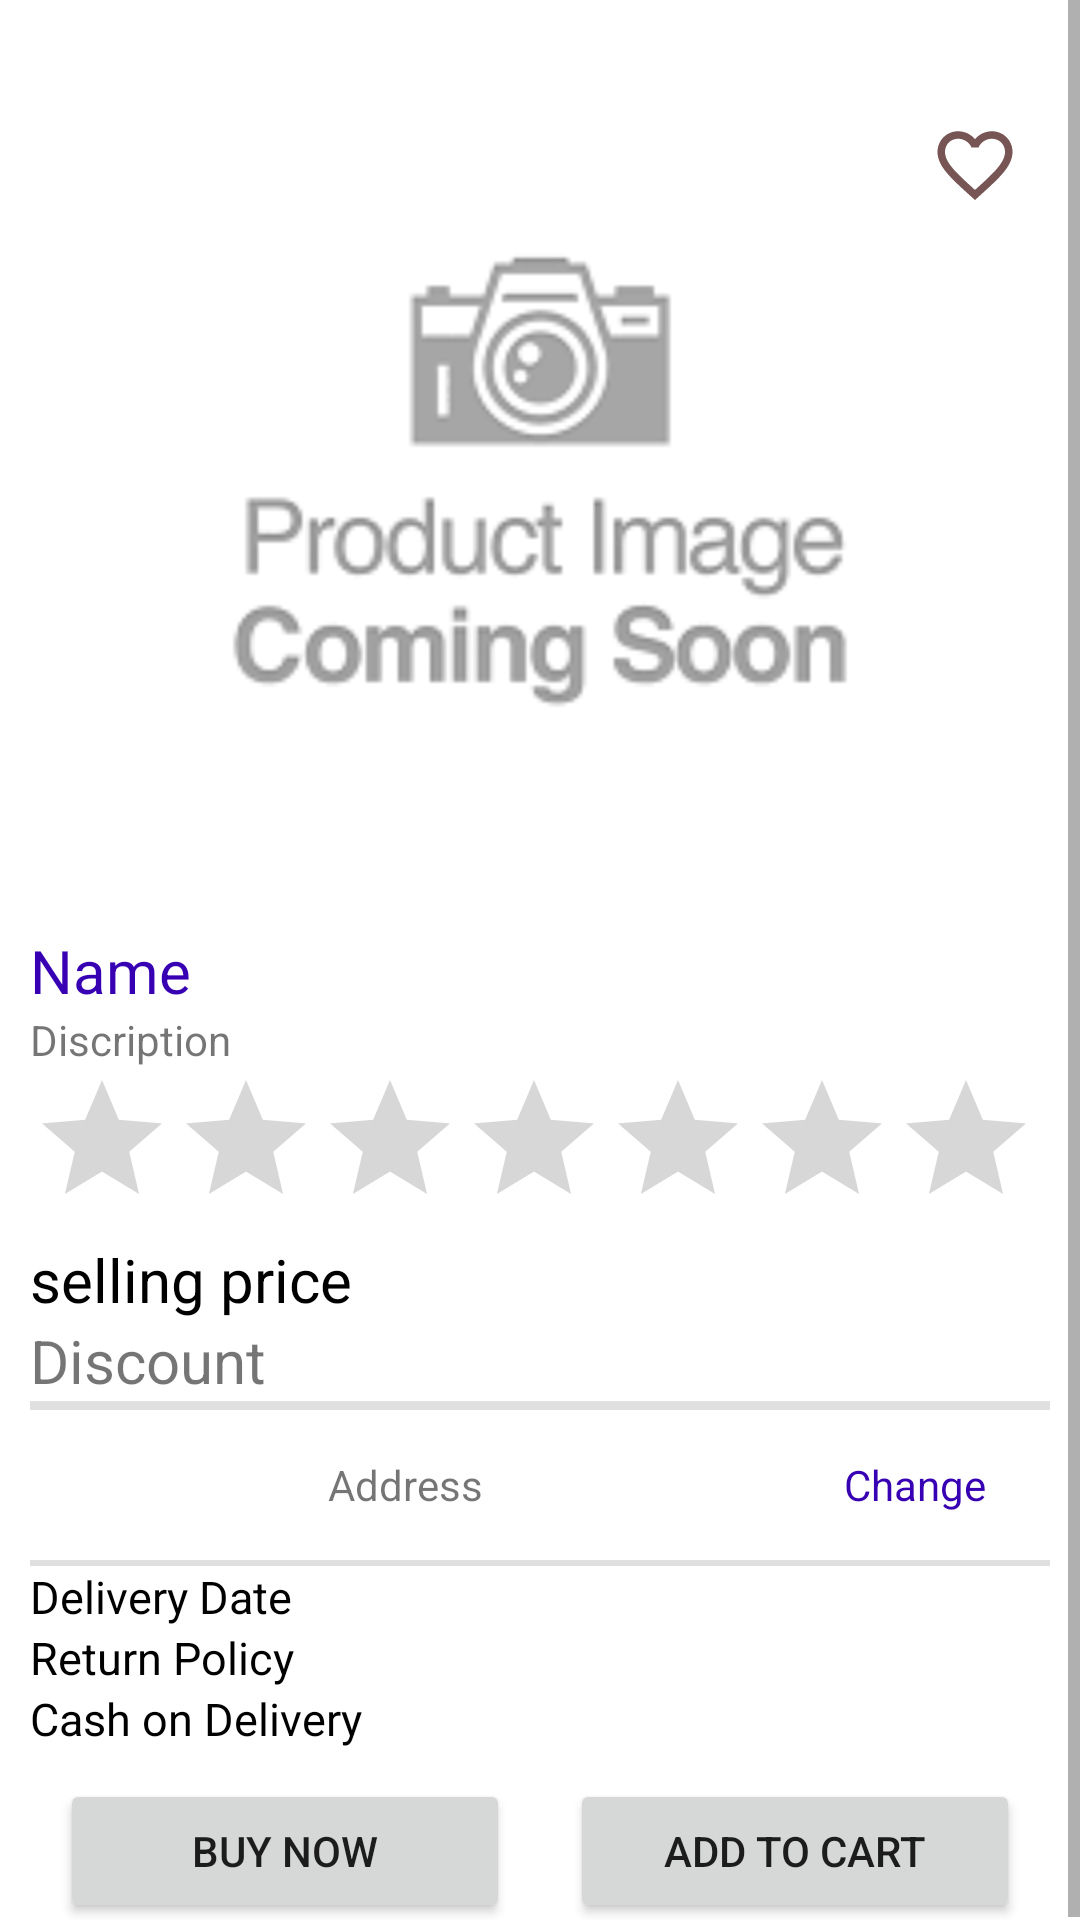

Named icons in this screenshot (1080px x 1920px) and their bounding boxes, region(x1, y1, x2, y2):
wishlist: region(937, 131, 1013, 200)
